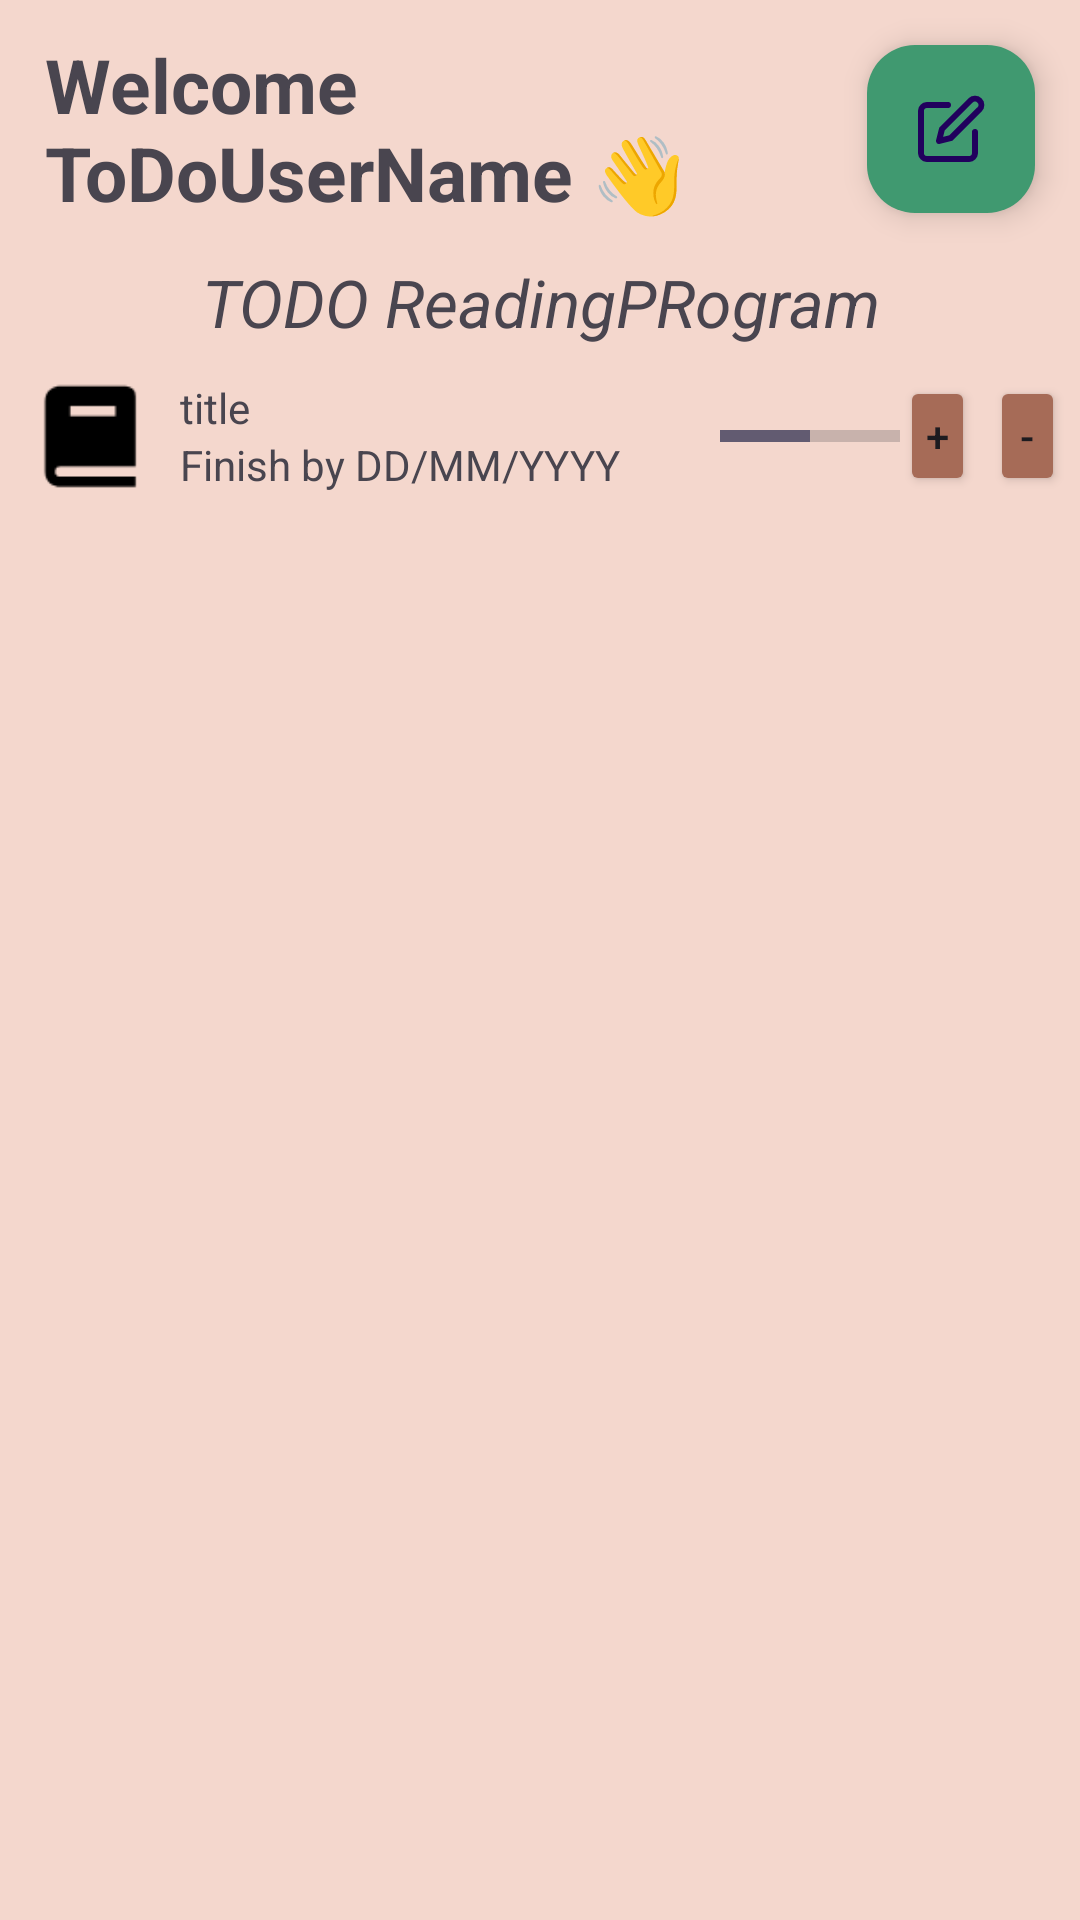

Icon bounding boxes for this 1080 x 1920 phone screenshot, format bbox(x1, y1, x2, y2):
book: bbox(44, 385, 137, 488)
edit: bbox(867, 45, 1035, 213)
